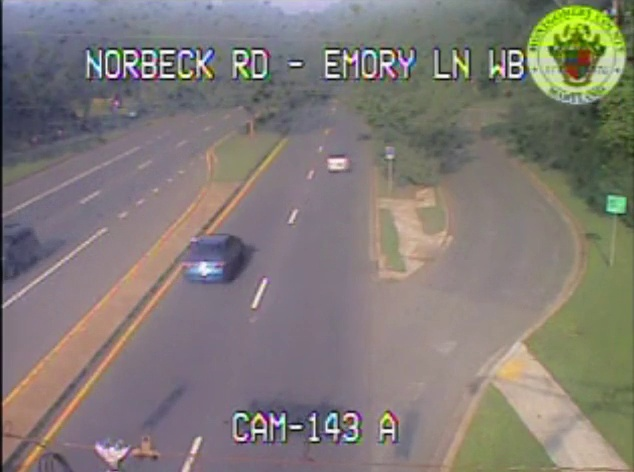car: (181, 234, 242, 283), (325, 154, 351, 173)
